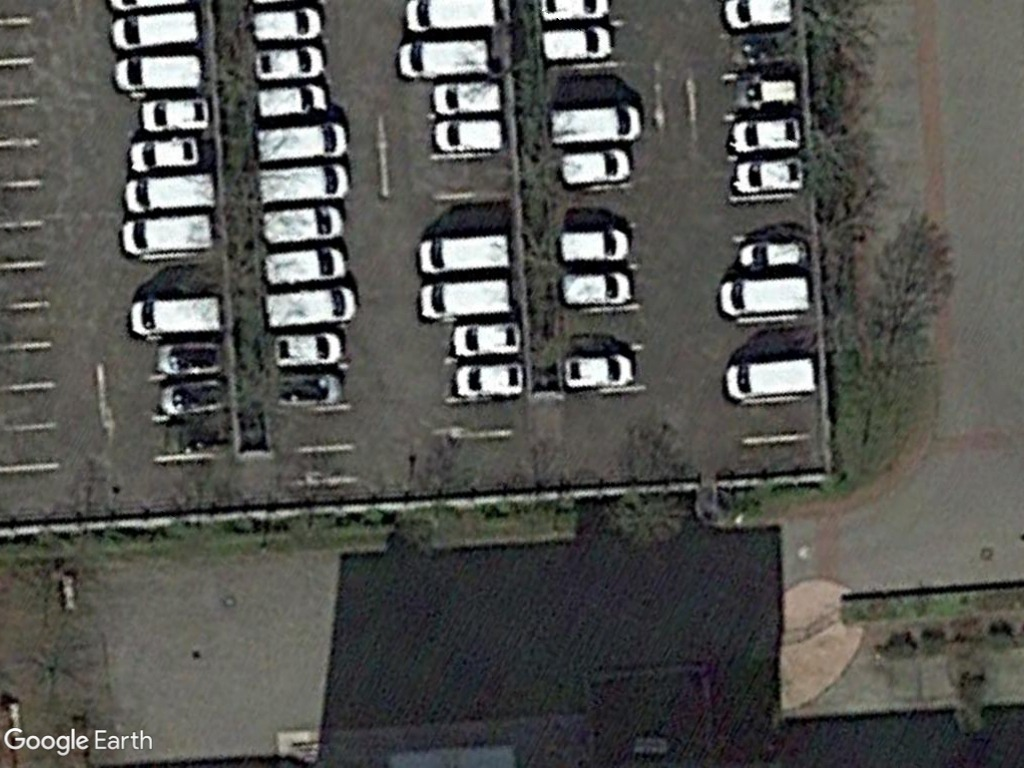car: (117, 131, 206, 173), (724, 113, 807, 155), (558, 349, 638, 392), (449, 360, 527, 403), (266, 329, 347, 370), (444, 318, 525, 358), (137, 94, 212, 136), (249, 43, 327, 83), (729, 154, 805, 193)
van: (394, 34, 495, 83), (259, 281, 357, 331), (118, 169, 220, 217), (250, 119, 356, 165), (715, 271, 814, 320), (721, 353, 818, 403), (411, 230, 514, 277), (413, 276, 517, 322), (112, 213, 213, 260), (123, 292, 224, 339), (544, 100, 646, 145), (106, 7, 202, 54), (254, 199, 348, 247), (253, 158, 351, 204), (258, 241, 352, 287), (108, 52, 207, 94), (556, 145, 634, 191), (534, 22, 616, 65), (246, 2, 326, 46), (553, 225, 636, 265), (251, 82, 331, 123), (427, 116, 507, 155), (555, 269, 631, 309), (428, 78, 504, 116)
